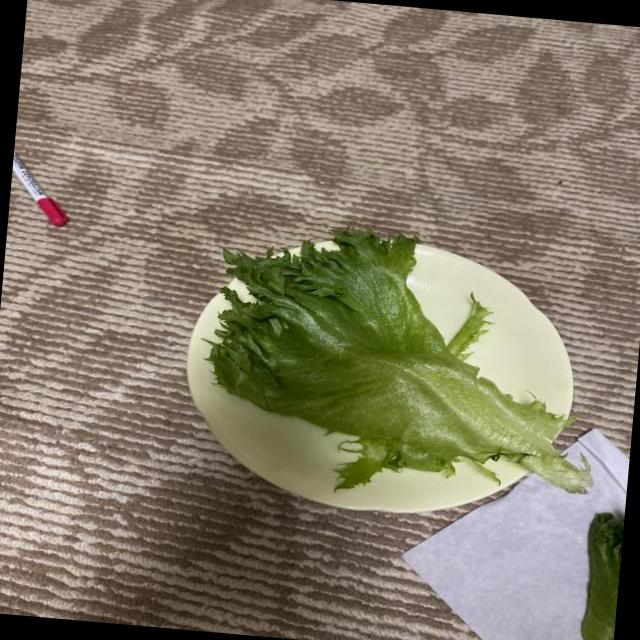Lettuce-Ready-to-Harvest: (210, 228, 591, 491)
